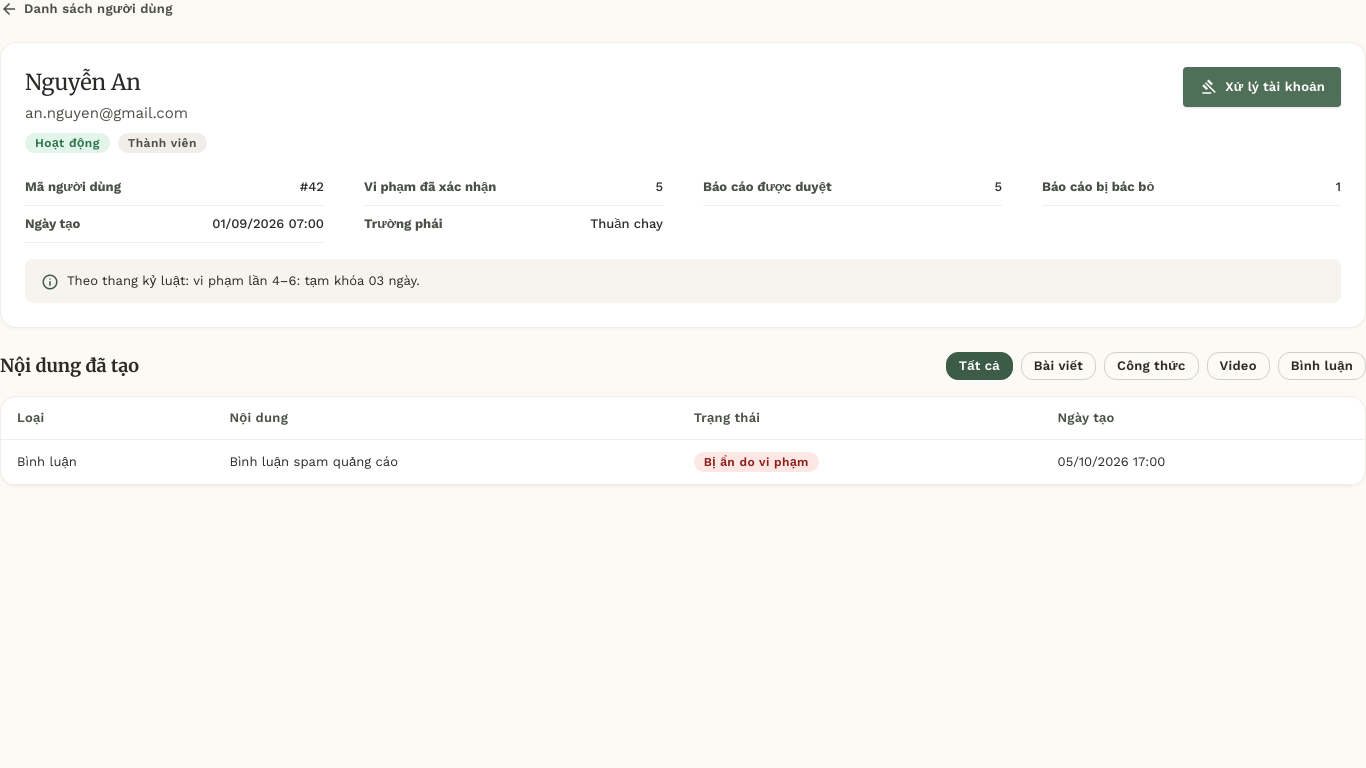
Test case: SCR-39 Chi tiết người dùng & xử phạt › 409 ERR_ADM_LAST_ADMIN: hộp thoại với message của server
Click the button "Xử lý tài khoản": (1262, 87) [1183,67,1341,107]
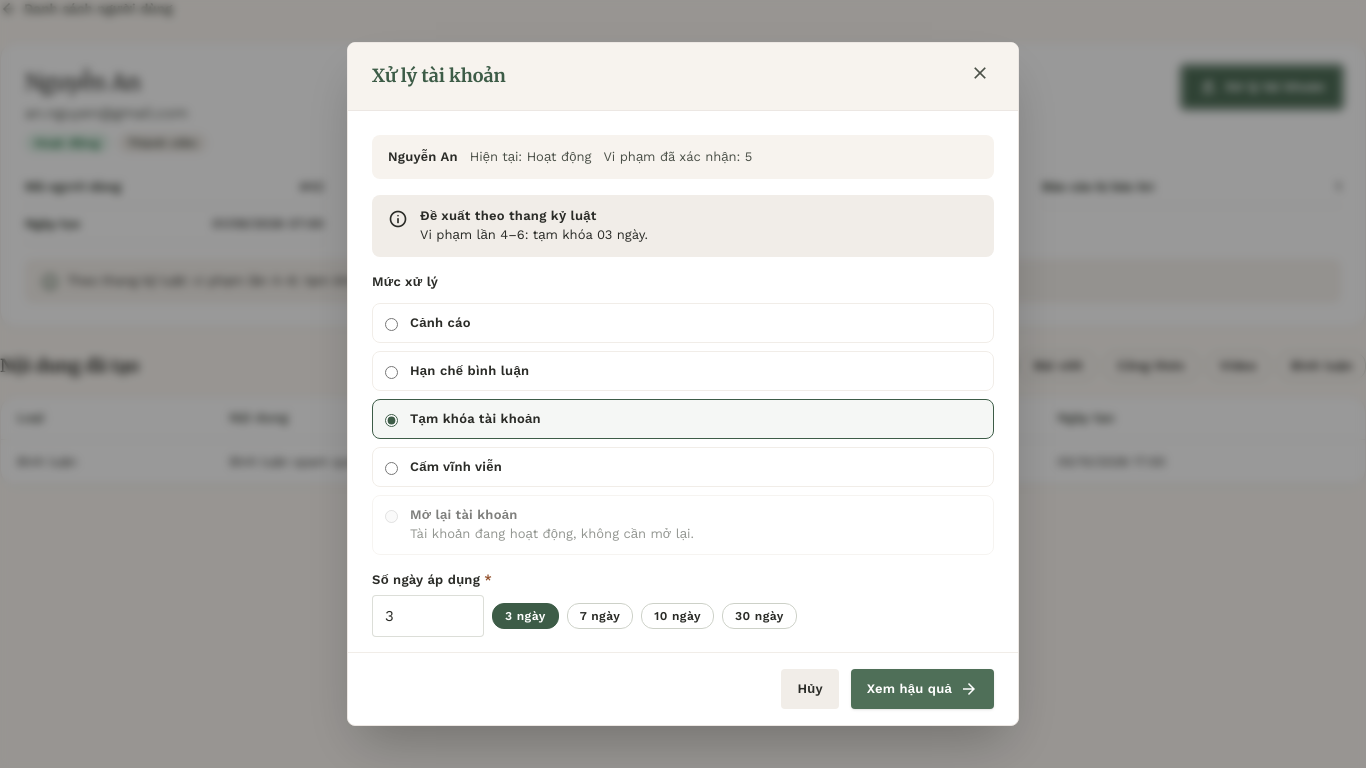
Click the radio button labelled "Cảnh cáo": (392, 324) [385,318,398,331]
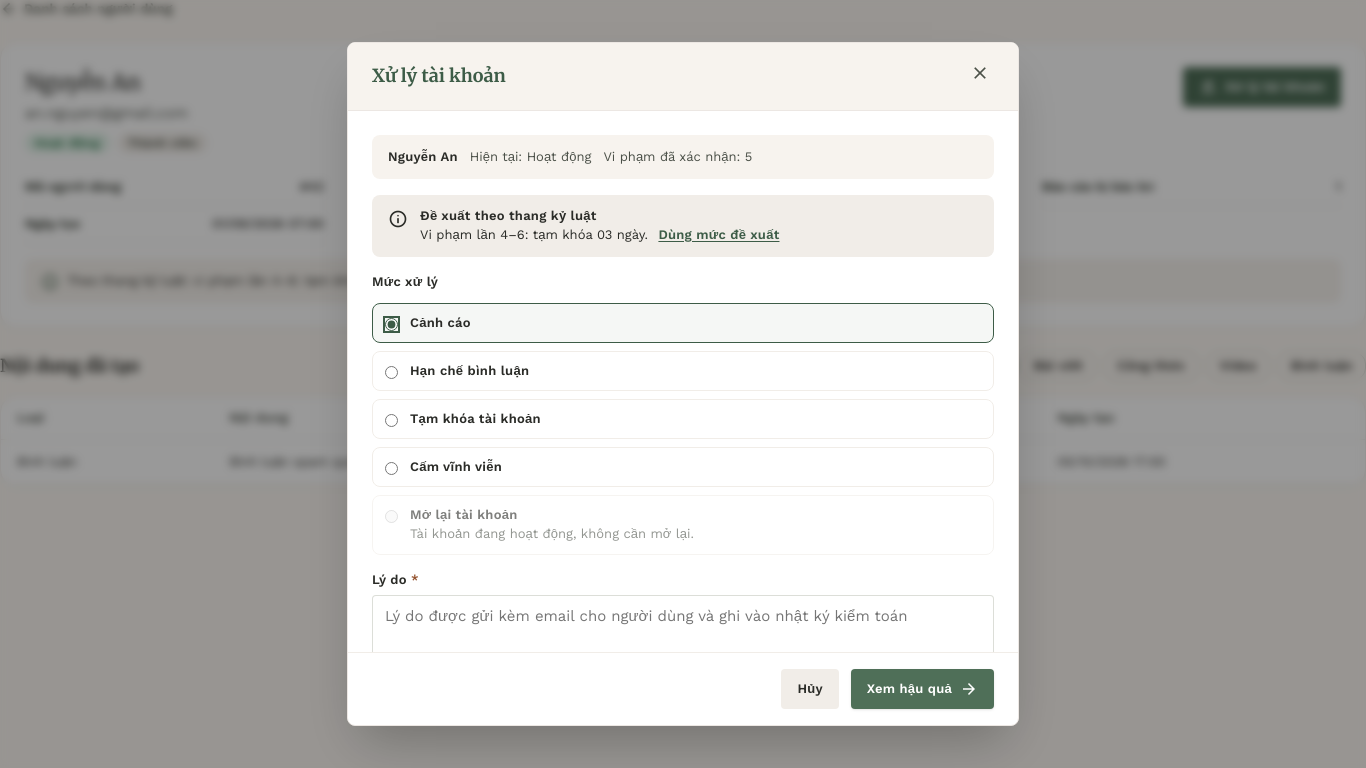
In the text box labelled "Lý do *": (683, 640) [372,595,994,685], type "Nhắc nhở lần đầu về nội dung"
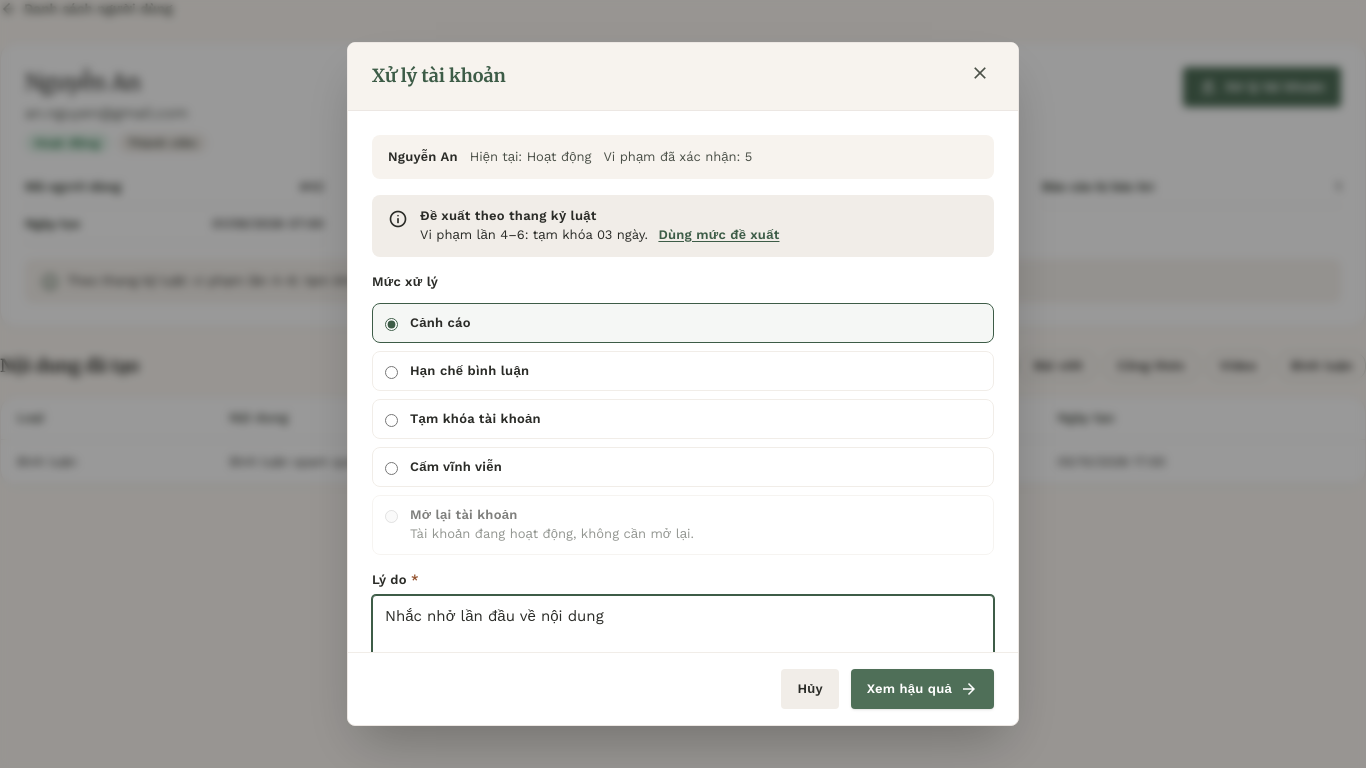
Click the button "Xem hậu quả": (922, 689) [851,669,994,709]
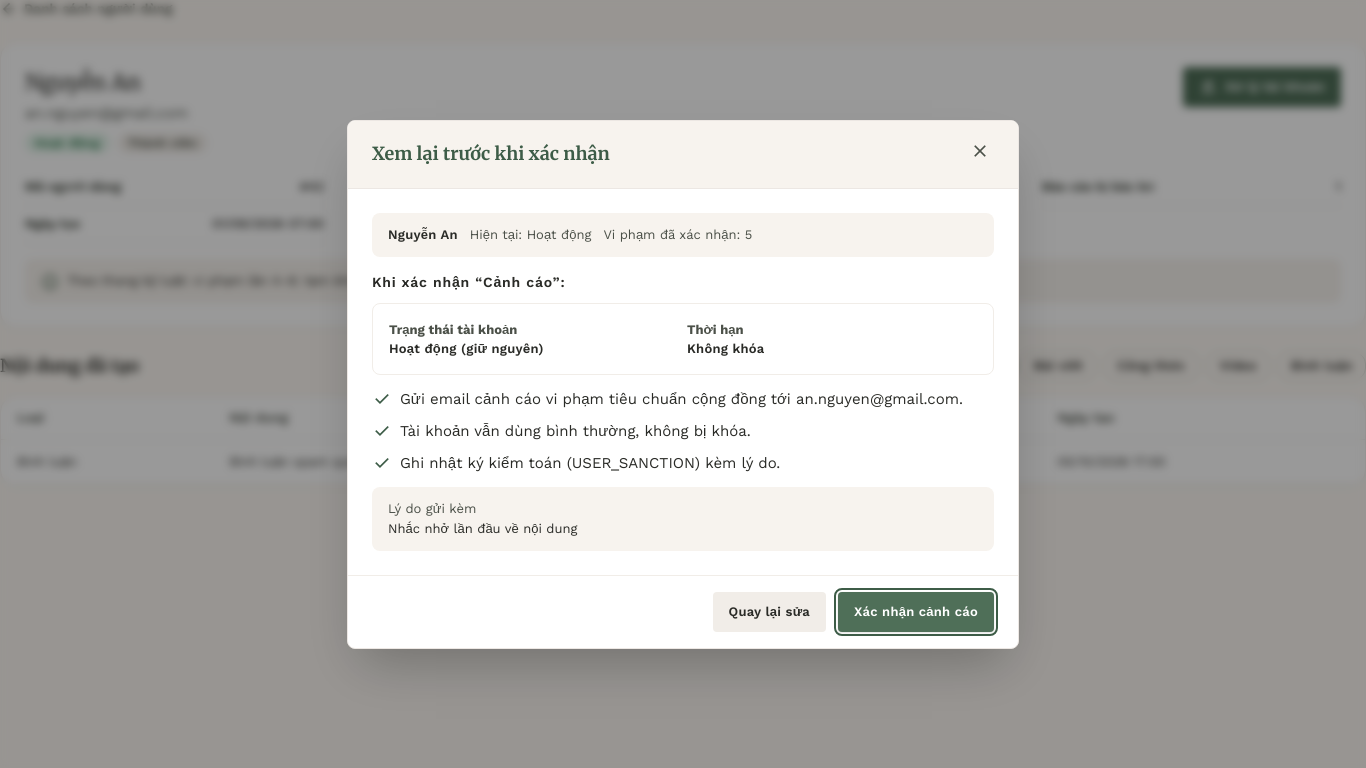
Click the button "Xác nhận cảnh cáo": (916, 612) [838,592,994,632]
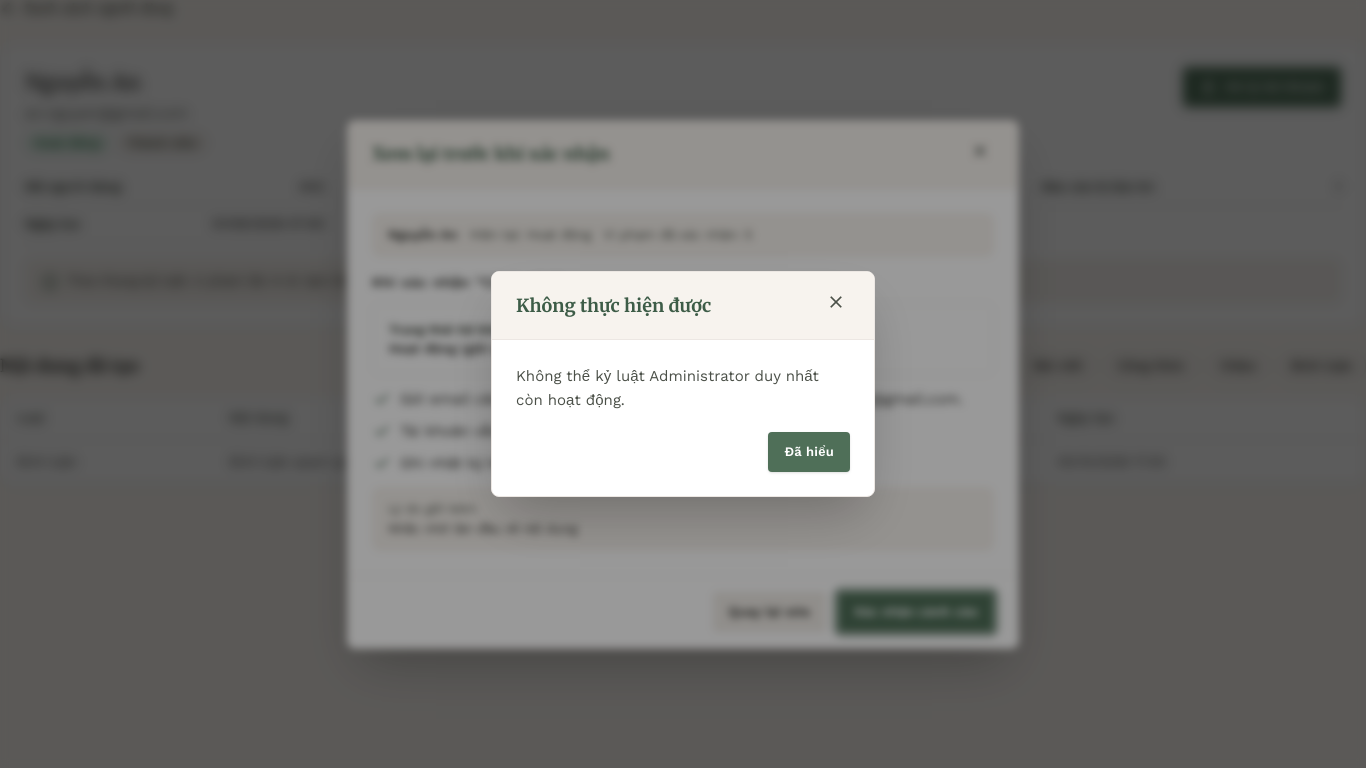
expect the text "Không thể kỷ luật Administrator duy nhất còn hoạt động." is shown: met, box [516,364,850,412]
